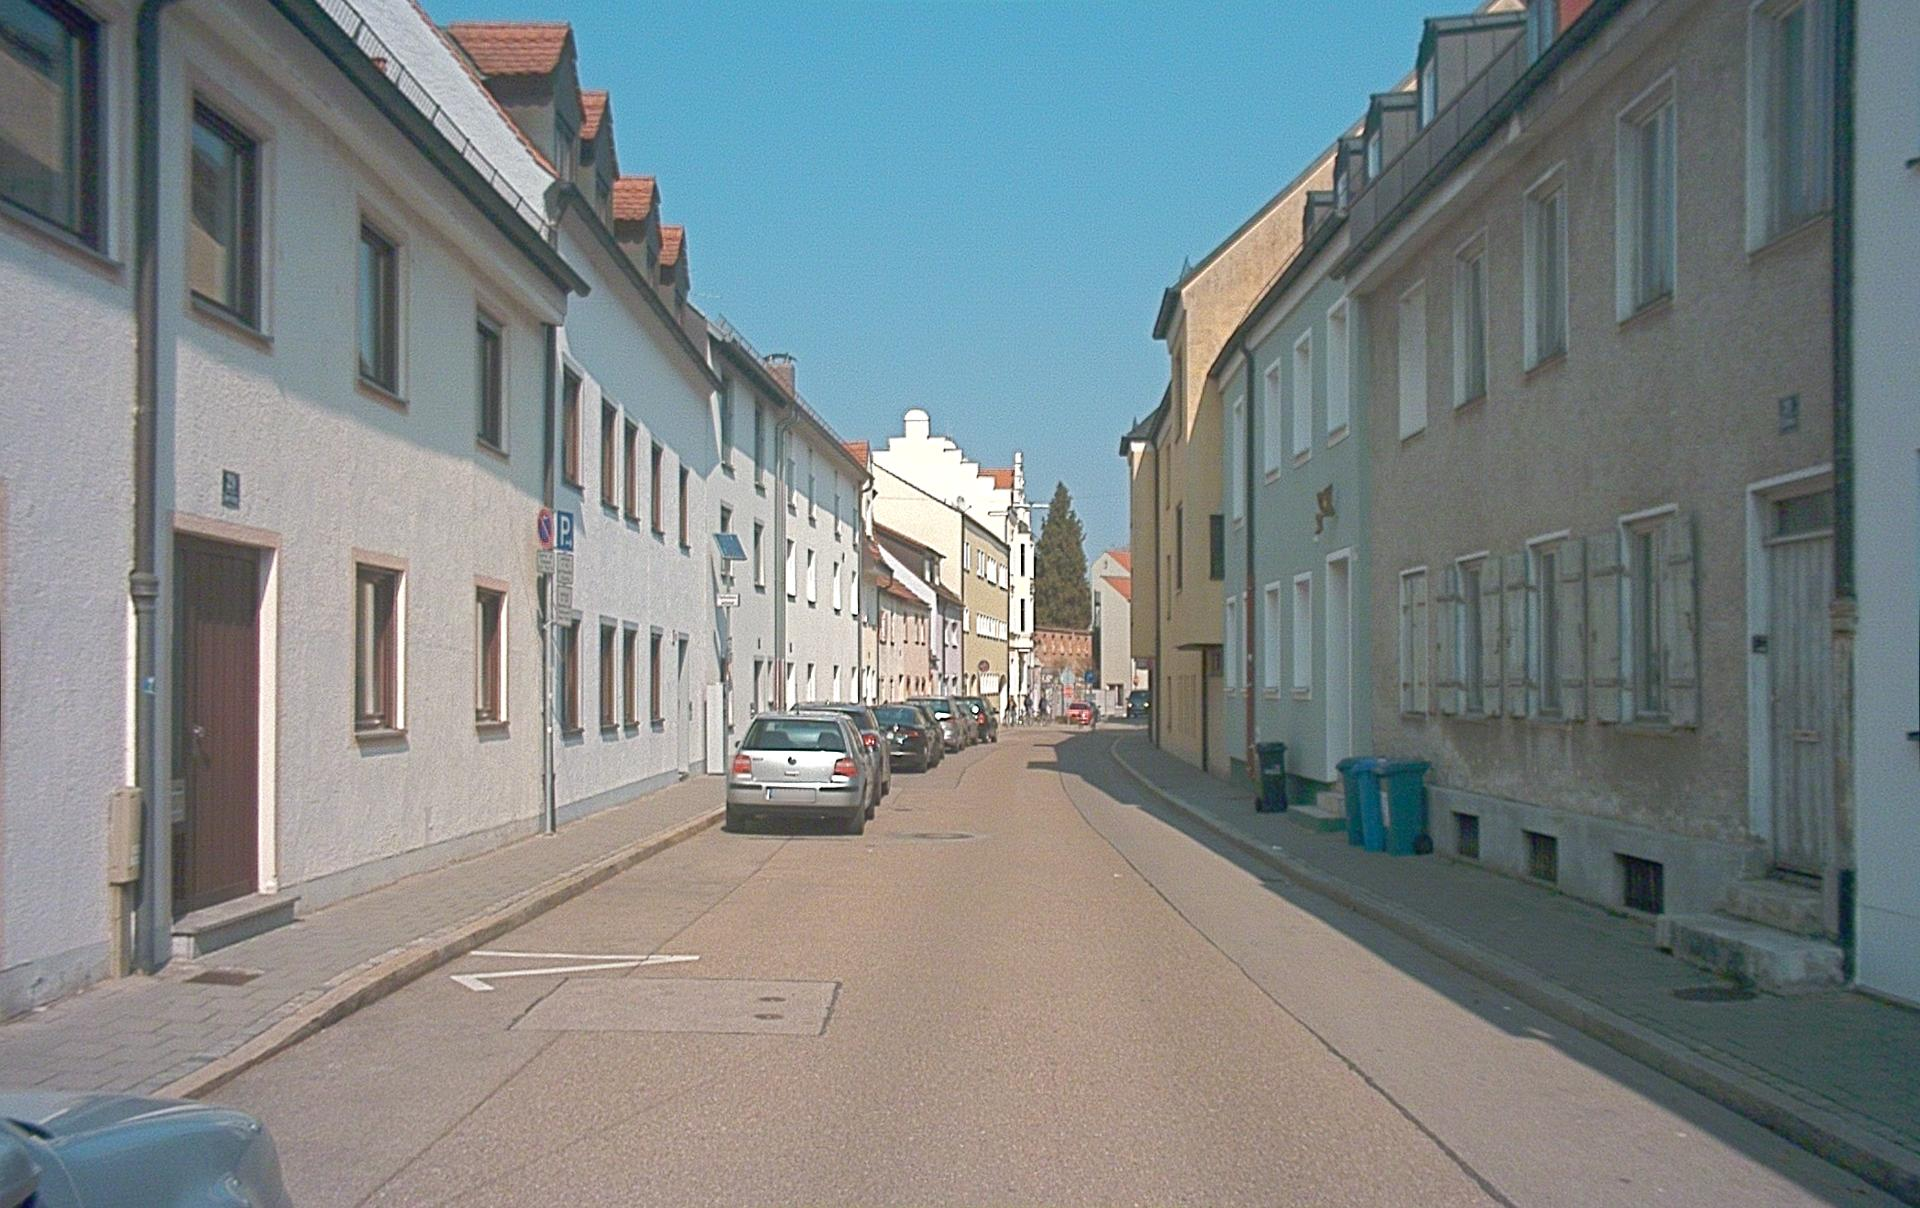car: (0, 1090, 294, 1208), (725, 713, 875, 834), (789, 701, 890, 804), (872, 704, 942, 772), (907, 699, 968, 753), (903, 703, 946, 761), (954, 697, 998, 743), (1067, 701, 1094, 728), (1127, 689, 1149, 720)
